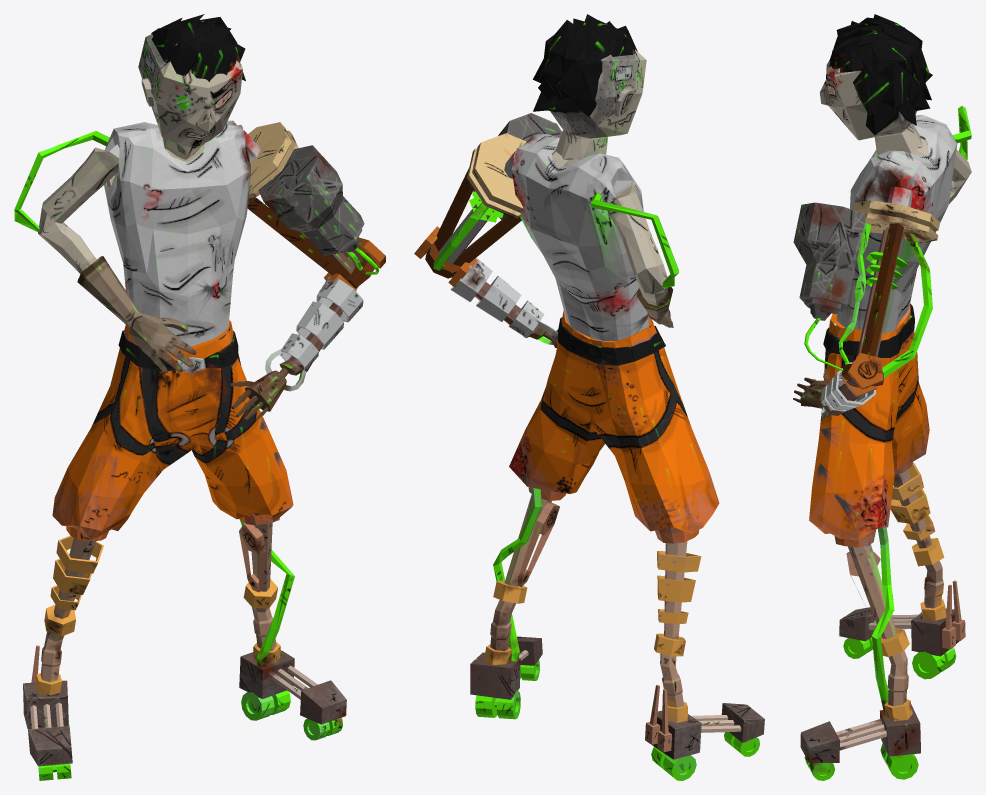
The model's file is CyborgFINALAnimation_000039.obj.
The picture shows the model from 3 angles, left to right: view 1: azimuth 30°, elevation 25°; view 2: azimuth 150°, elevation 25°; view 3: azimuth 270°, elevation 25°; orthographic projection. The views are drawn at different scales.
Visible parts, largest first — view 1: CyborgMesh_Cube.002; view 2: CyborgMesh_Cube.002; view 3: CyborgMesh_Cube.002.
Boxes of the visible parts, <box> form: CyborgMesh_Cube.002: <box>14,14,385,780</box>; CyborgMesh_Cube.002: <box>414,14,764,780</box>; CyborgMesh_Cube.002: <box>793,14,971,780</box>.
Bounding box in the file's own units: 4.87 × 9.6 × 2.19.
